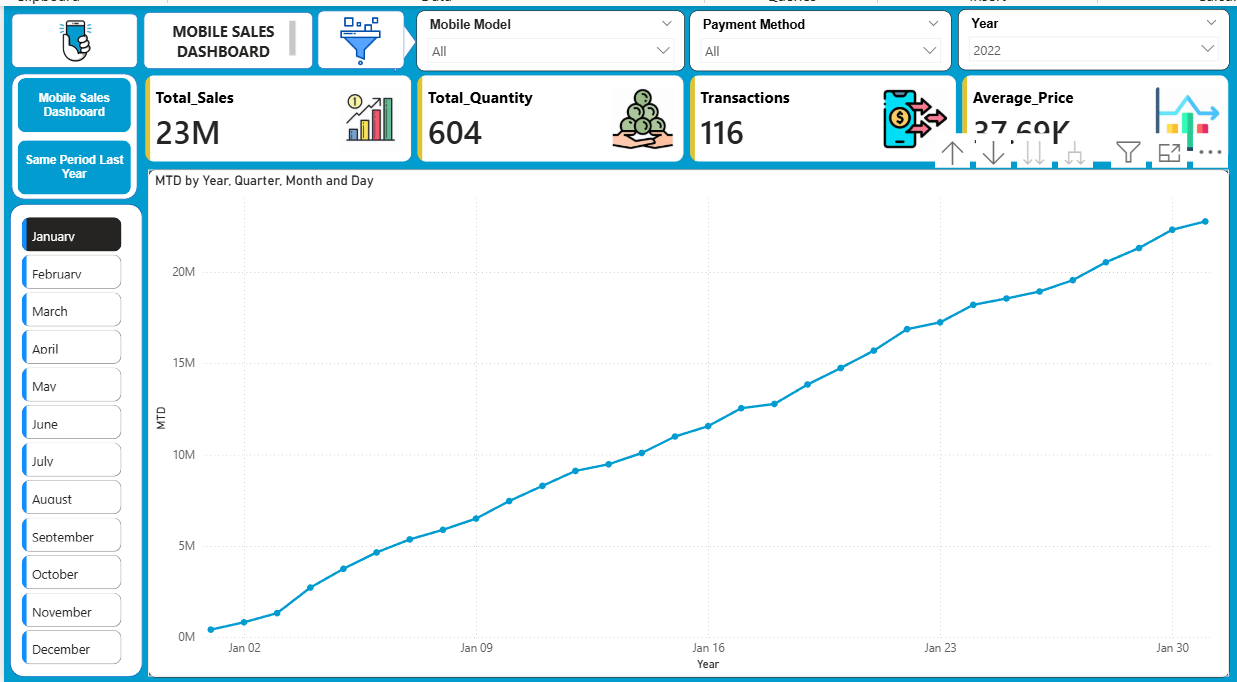

This screenshot's page, from the dashboard's own definition file:
{"tool":"powerbi","page":{"name":"MTD Dashboard","canvas":[1550,850],"ordinal":1},"visuals":[{"type":"shape","box":[10,10,158,68],"z":0},{"type":"image","box":[38,10,104,68],"z":1000},{"type":"shape","box":[9.4,84.5,157.7,157.7],"z":2000},{"type":"cardVisual","fields":{"Data":["Mobile_sales_data.Total_Sales","Mobile_sales_data.Total_Quantity","Mobile_sales_data.Transactions","Mobile_sales_data.Average_Price"]},"box":[160,70,1390,142],"z":3000},{"type":"slicer","fields":{"Values":["Mobile_sales_data.Mobile Model"]},"box":[516,6,336,76],"z":4000},{"type":"slicer","fields":{"Values":["Mobile_sales_data.Payment Method"]},"box":[858,6,328,76],"z":5000},{"type":"shape","box":[460.1,5.6,56.3,78.9],"z":6000},{"type":"shape","box":[392.5,5.6,108.9,73.2],"z":7000},{"type":"slicer","fields":{"Values":["Custom_Calender.Date.Variation.Date Hierarchy.Year"]},"box":[1194.3,3.8,339.9,77],"z":8000},{"type":"image","box":[390.6,13.1,110.8,62],"z":9000},{"type":"shape","box":[174.6,7.5,212.2,71.4],"z":10000},{"type":"textbox","box":[187.8,13.1,182.1,56.3],"z":11000},{"type":"lineChart","fields":{"Y":["Mobile_sales_data.MTD"],"Category":["Custom_Calender.Date.Variation.Date Hierarchy.Year","Custom_Calender.Date.Variation.Date Hierarchy.Quarter","Custom_Calender.Date.Variation.Date Hierarchy.Month","Custom_Calender.Date.Variation.Date Hierarchy.Day"]},"box":[180,204,1354,636],"z":12000},{"type":"shape","box":[8,248,166,592],"z":13000},{"type":"advancedSlicerVisual","fields":{"Values":["Custom_Calender.Date.Variation.Date Hierarchy.Month"]},"box":[16.9,259.1,135.2,570.9],"z":14000},{"type":"pageNavigator","box":[16.9,90.1,142.7,146.5],"z":15000}]}

Visuals, with their boxes on the page's 1550x850 design canvas (x1, y1, x2, y2). These are canvas units, not pixel positions in the 1237x682 screenshot, which may show the page scaled, cropped or inside an application window:
shape: bbox=(10, 10, 168, 78)
image: bbox=(38, 10, 142, 78)
shape: bbox=(9, 84, 167, 242)
cardVisual - Mobile_sales_data.Total_Sales x Mobile_sales_data.Total_Quantity: bbox=(160, 70, 1550, 212)
slicer - Mobile_sales_data.Mobile Model: bbox=(516, 6, 852, 82)
slicer - Mobile_sales_data.Payment Method: bbox=(858, 6, 1186, 82)
shape: bbox=(460, 6, 516, 84)
shape: bbox=(392, 6, 501, 79)
slicer - Custom_Calender.Date.Variation.Date Hierarchy.Year: bbox=(1194, 4, 1534, 81)
image: bbox=(391, 13, 501, 75)
shape: bbox=(175, 8, 387, 79)
textbox: bbox=(188, 13, 370, 69)
lineChart - Mobile_sales_data.MTD x Custom_Calender.Date.Variation.Date Hierarchy.Year: bbox=(180, 204, 1534, 840)
shape: bbox=(8, 248, 174, 840)
advancedSlicerVisual - Custom_Calender.Date.Variation.Date Hierarchy.Month: bbox=(17, 259, 152, 830)
pageNavigator: bbox=(17, 90, 160, 237)
